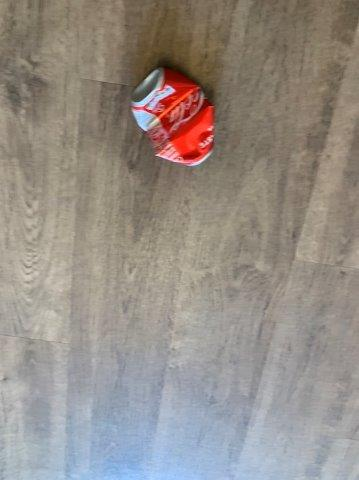kaleng: (132, 69, 214, 165)
